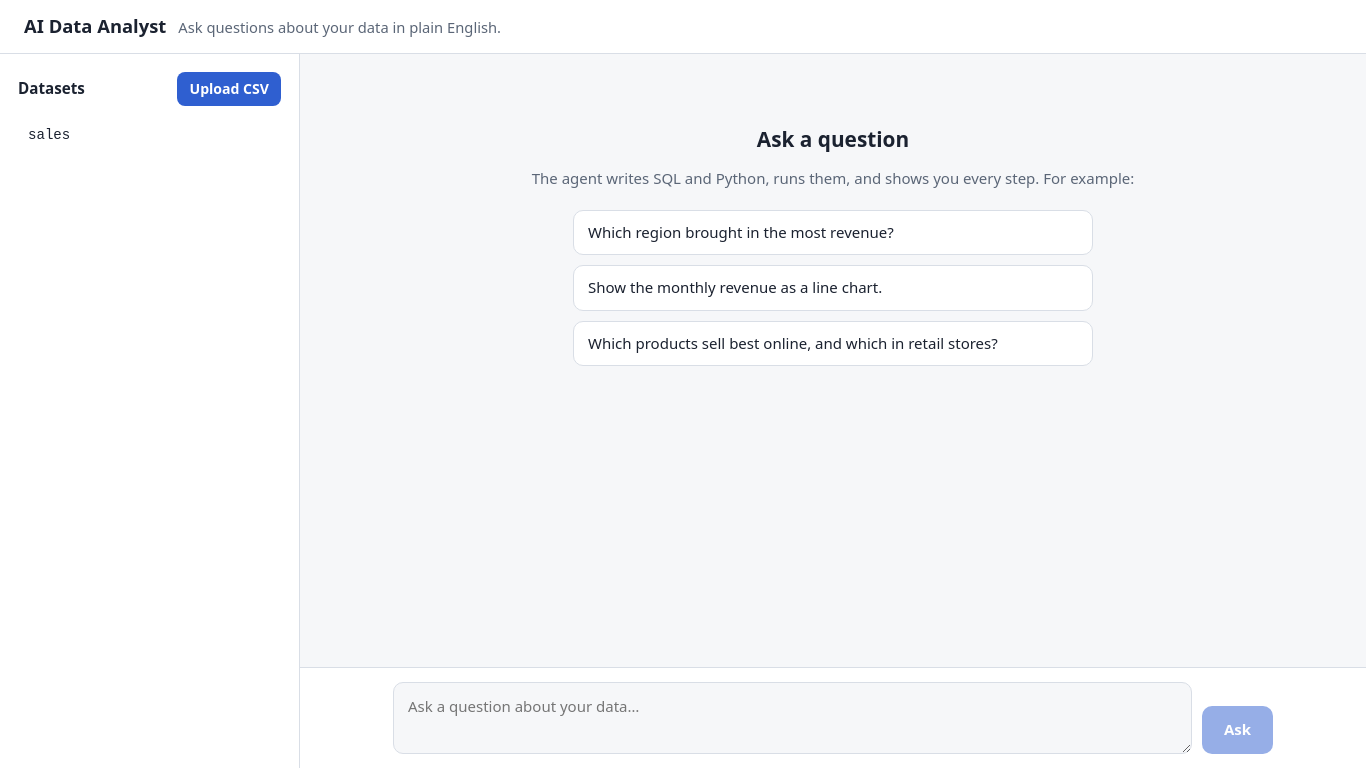
Scenario: AnalystApp › shows the API's error when it refuses a question
Expected: the button "sales" is shown, [18,118,281,153]
In the text box named "Your question": point(792, 718) [393,682,1192,754], type "Who sold most?"
Then press Enter
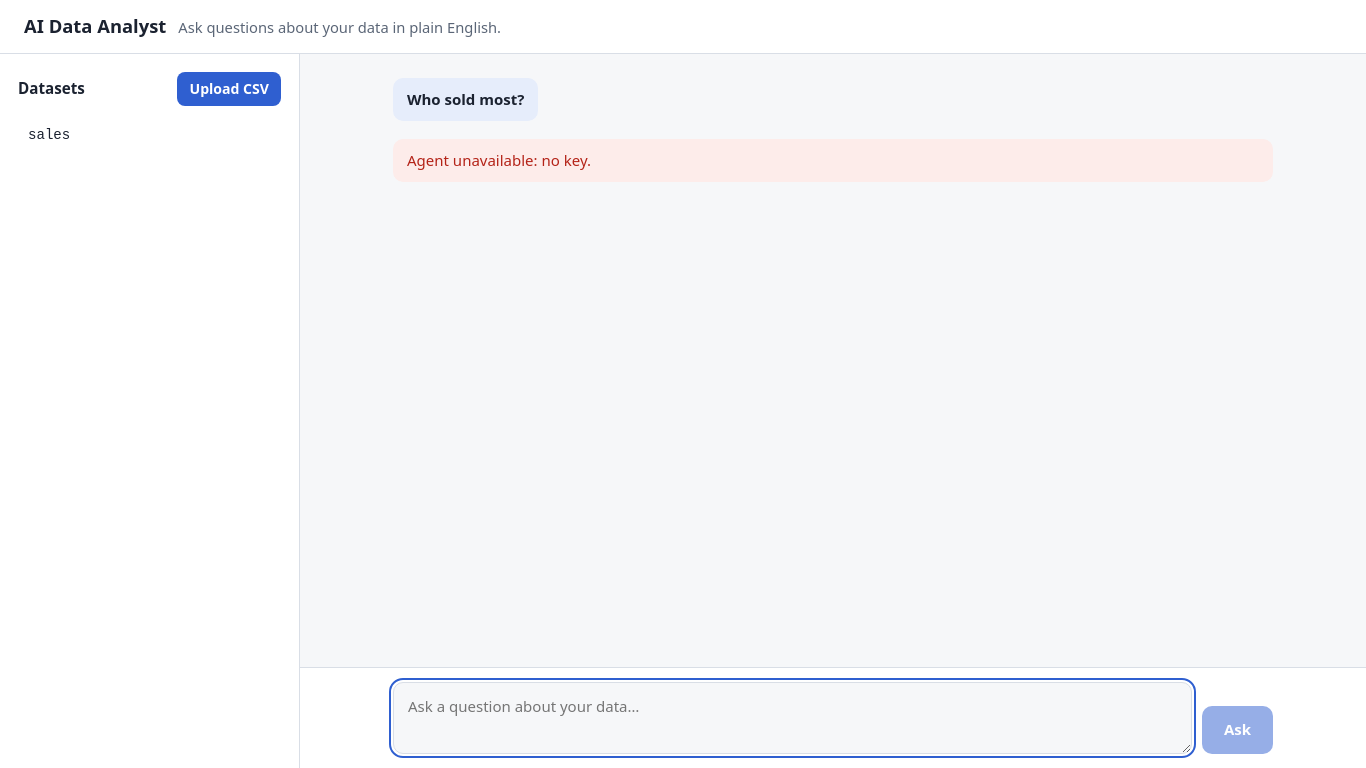
Expected: the button "Ask" is shown, [1202,706,1273,754]
Expected: the text "Agent unavailable: no key." is shown, [393,139,1273,182]
